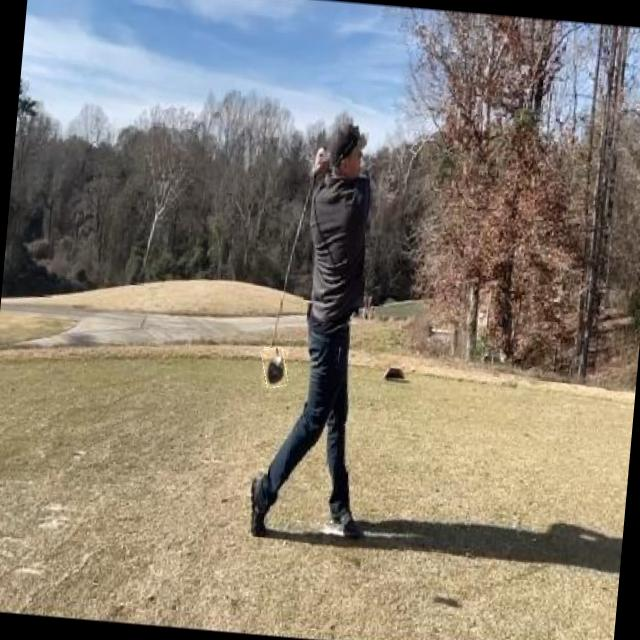club head: (260, 346, 288, 388)
